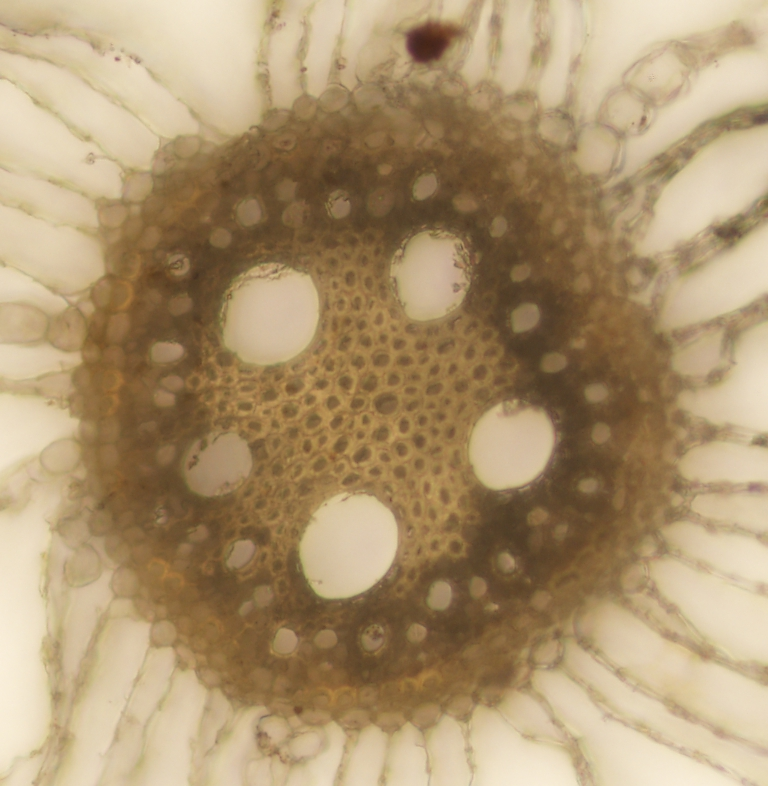lm: (217, 263, 321, 366), (299, 492, 398, 600), (467, 399, 557, 490), (393, 226, 473, 323), (182, 429, 253, 498)
